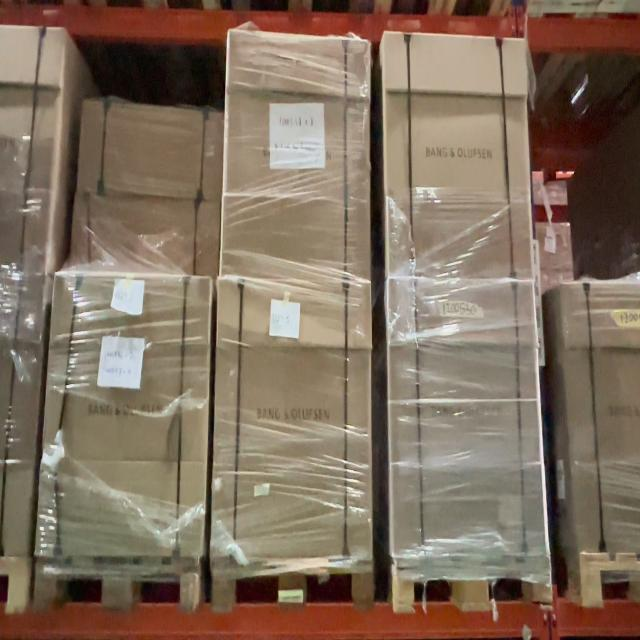box: (36, 272, 210, 557), (213, 276, 374, 559), (388, 276, 548, 551), (220, 28, 370, 280), (384, 32, 535, 281)
